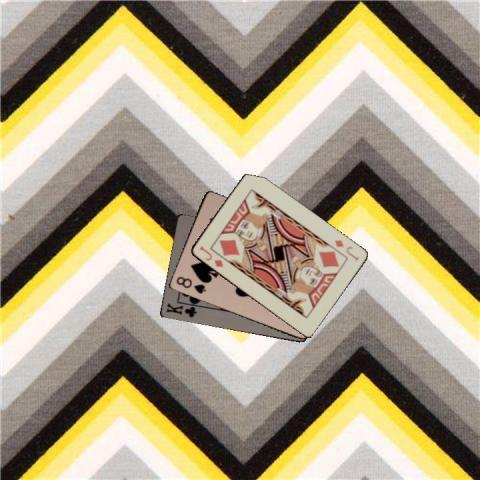8s: (173, 273, 207, 296)
Jd: (196, 243, 225, 269), (331, 236, 360, 262)
Kc: (163, 300, 198, 318)
